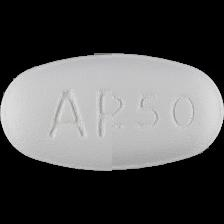61919-362: (0, 0, 224, 224)
